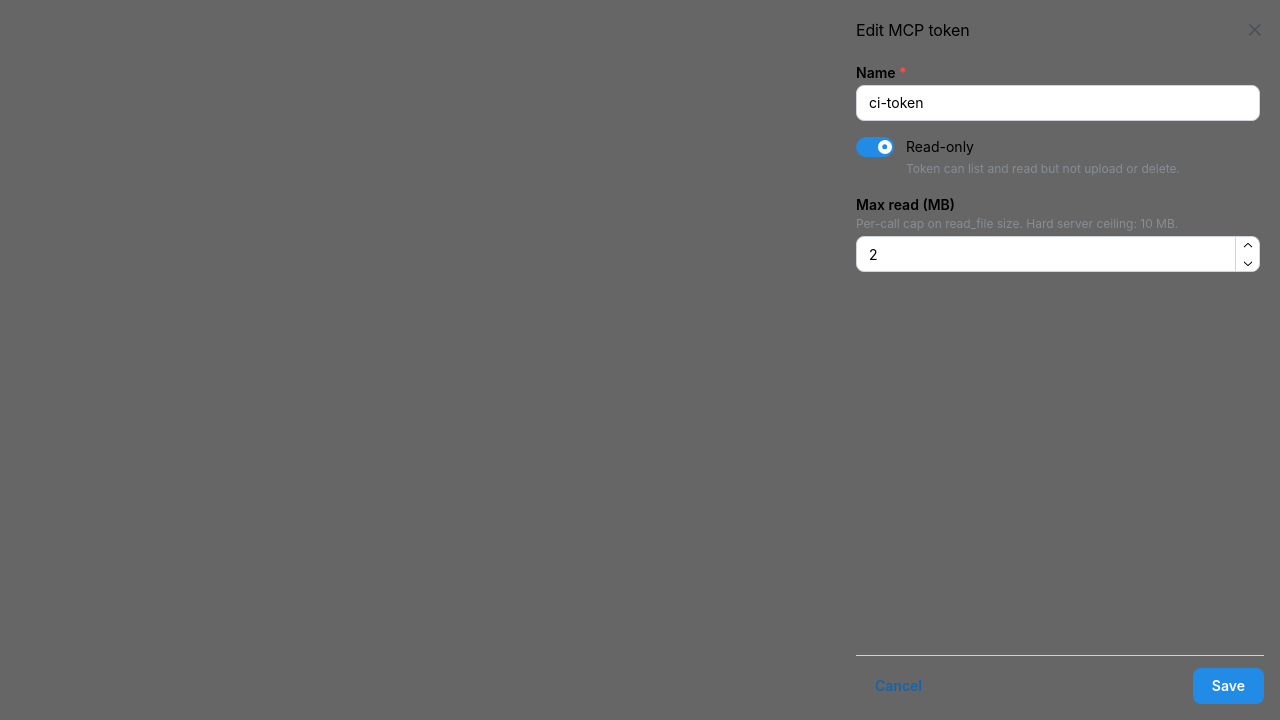
Test: TokenEditDrawer › requires a non-empty name
Clear the field labelled "Name *" at (1058, 103), box [856,85,1260,121]
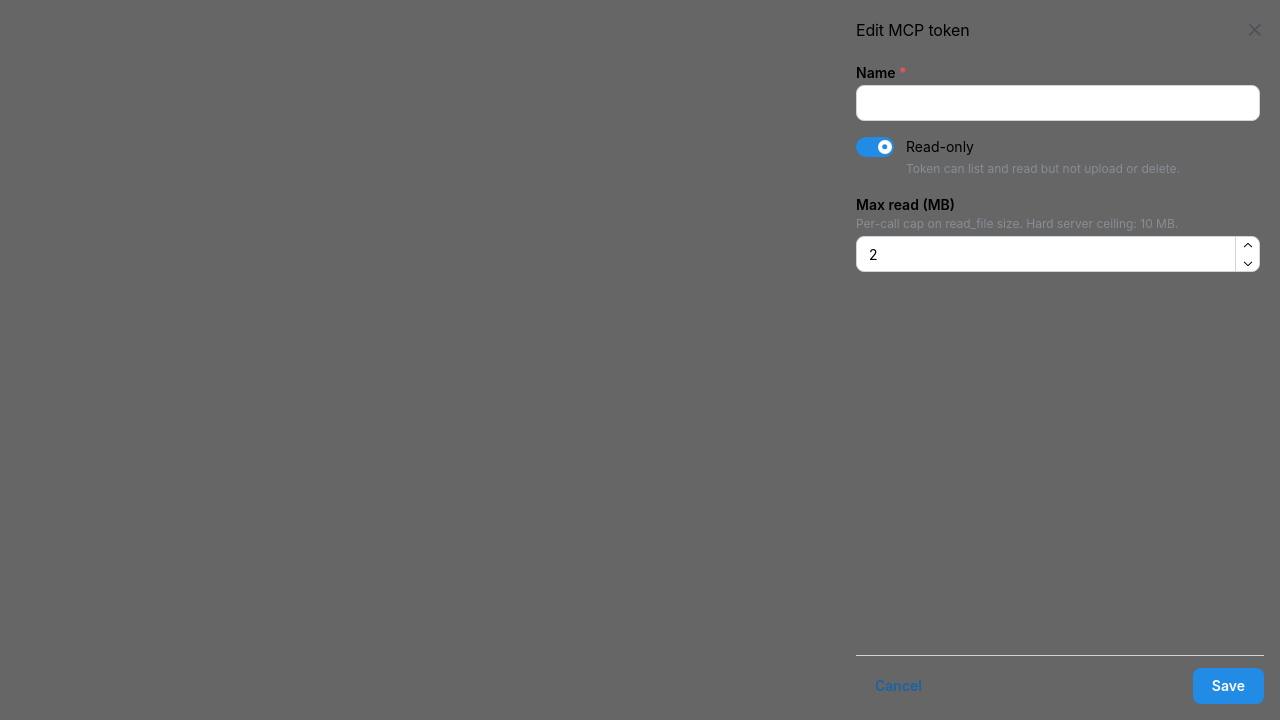
Submit the form, box [856,60,1264,704]
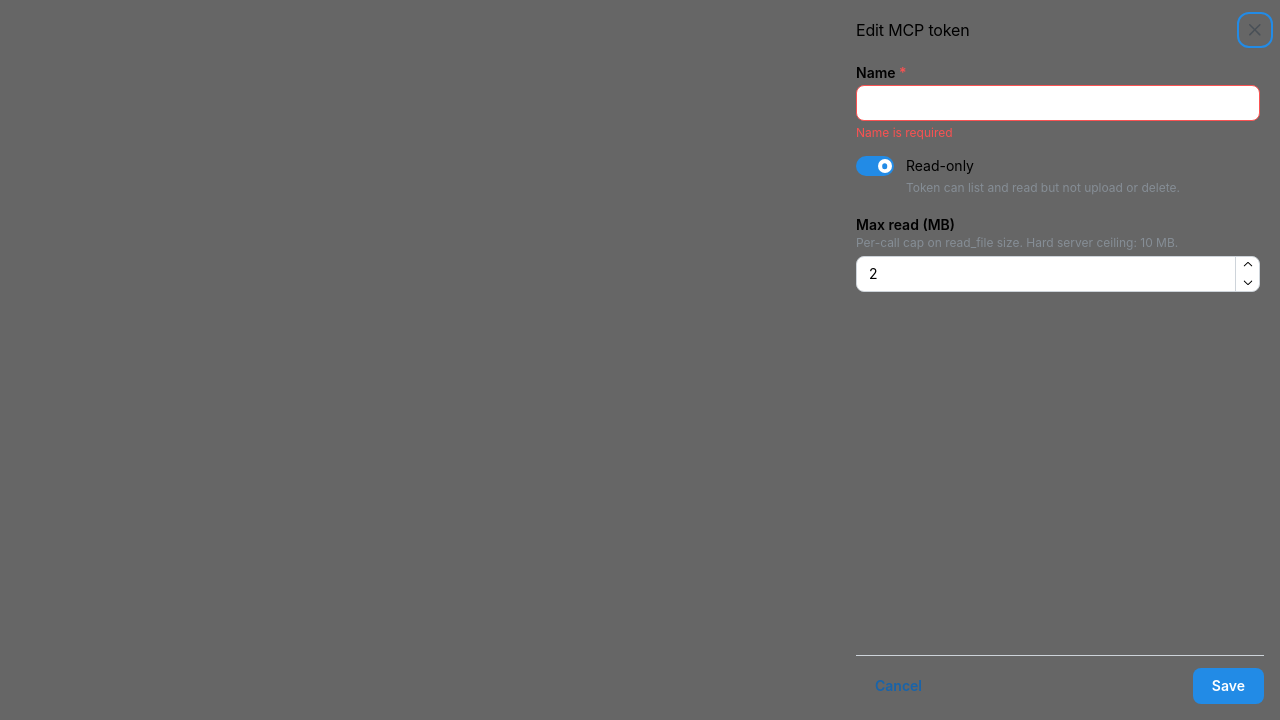
expect the text "Name is required" is shown: met, box [856,125,953,140]
